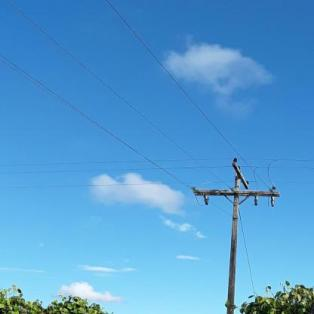Poste: (217, 164, 245, 314)
